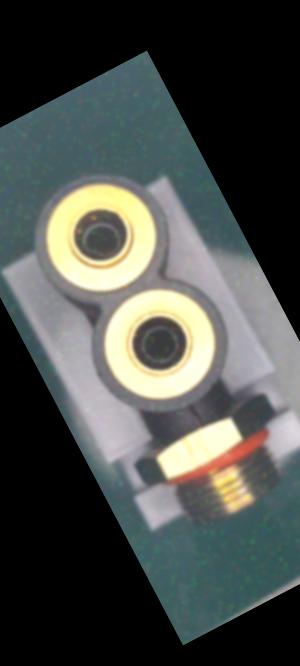craze: (182, 397, 208, 433)
off-centered: (71, 209, 129, 269)
